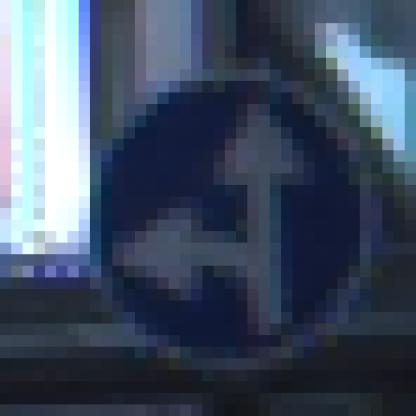Straight or Left: (68, 59, 361, 359)
